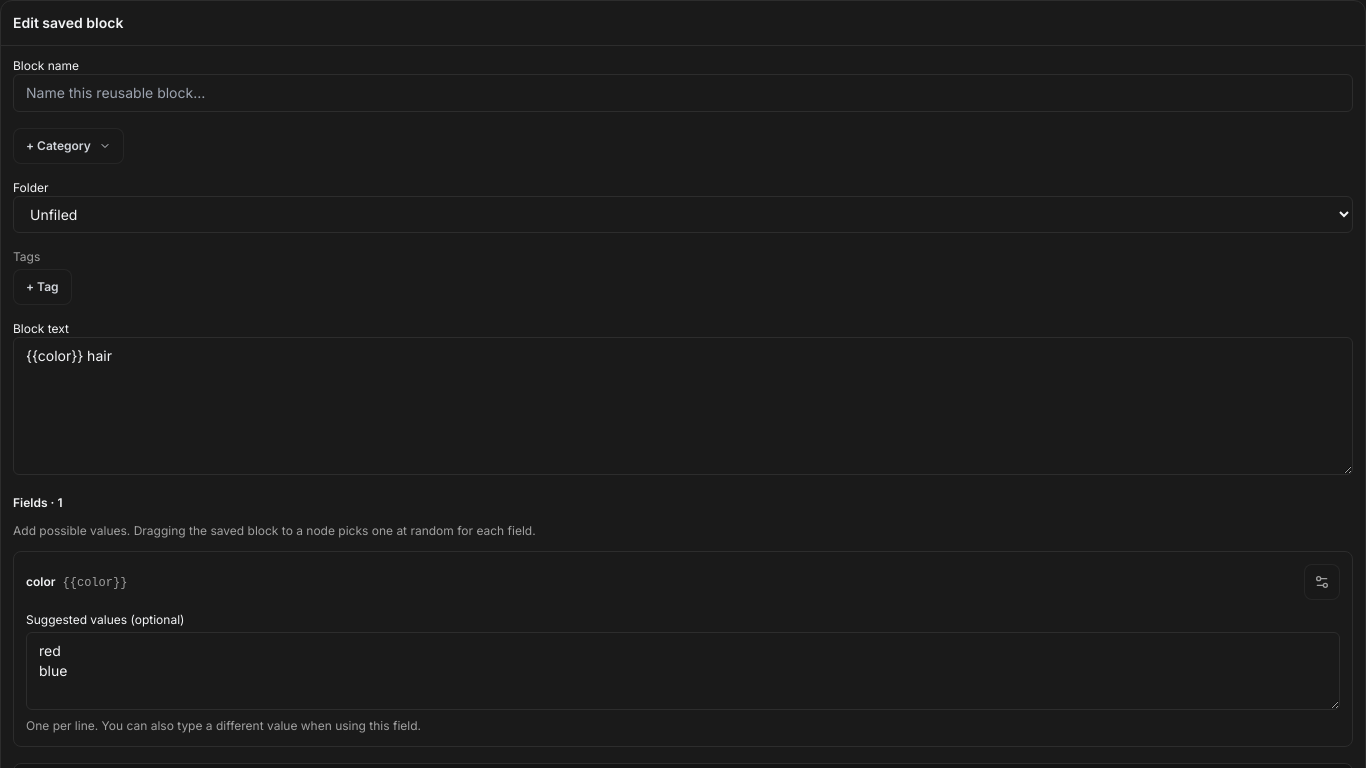
Test: preserves legacy labels, defaults and required flags without replacing placeholders in Preview
Click the button named "Field settings for color": (1322, 582) [1304,564,1340,600]
(page scrolled)
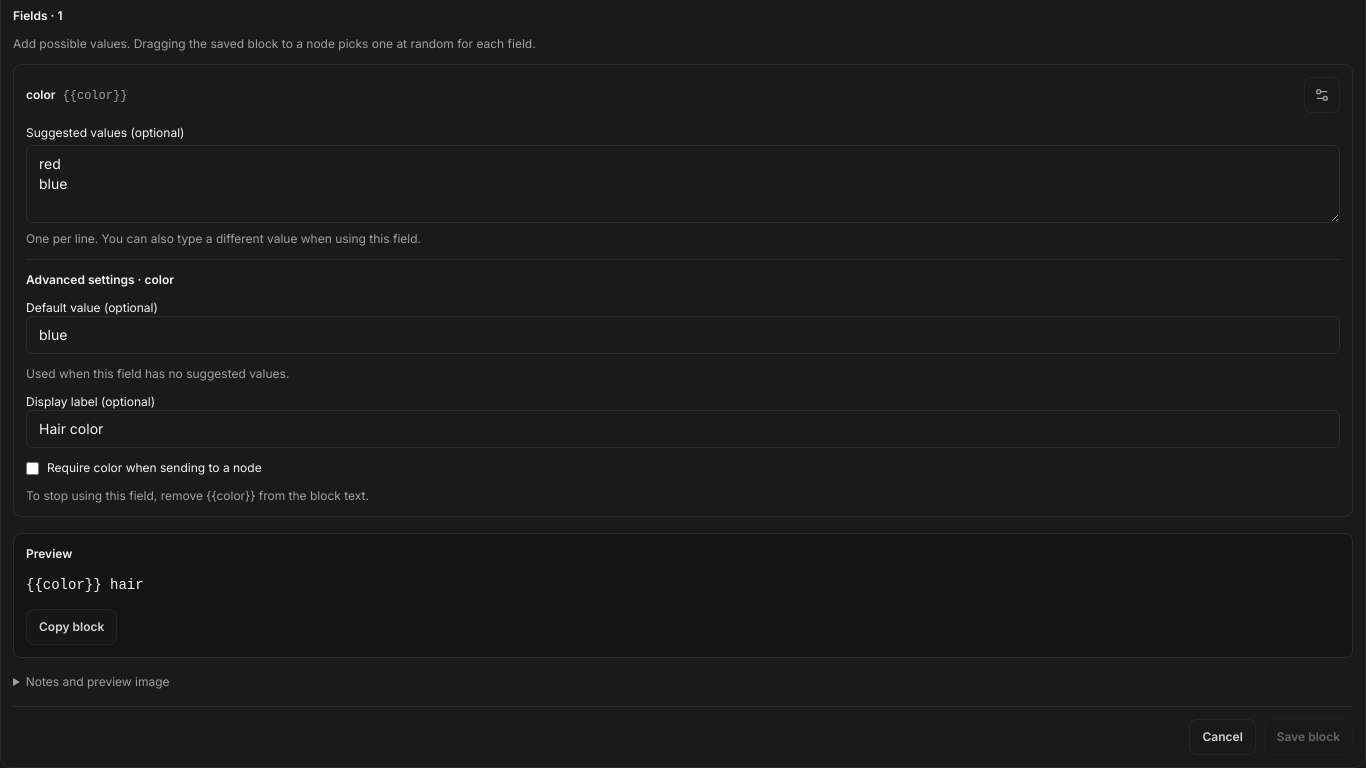
Expected: the field named "Default value for color" holds "blue", [26,316,1340,354]
Expected: the field named "Display label for color" holds "Hair color", [26,410,1340,448]
Expected: the checkbox labelled "Require color when sending to a node" is not checked, [26,462,39,474]
